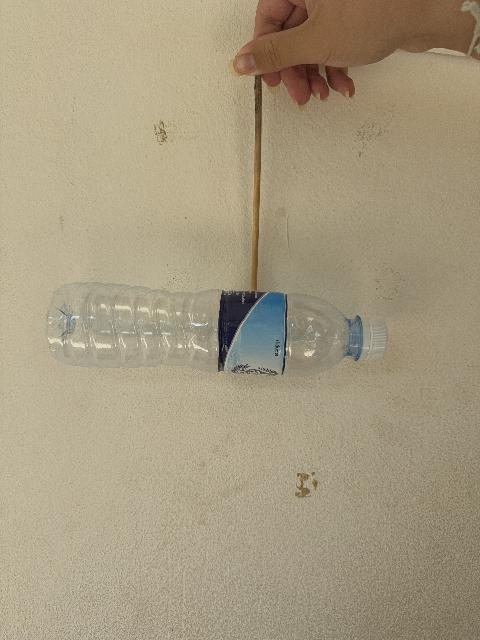bottle: (47, 283, 387, 376)
